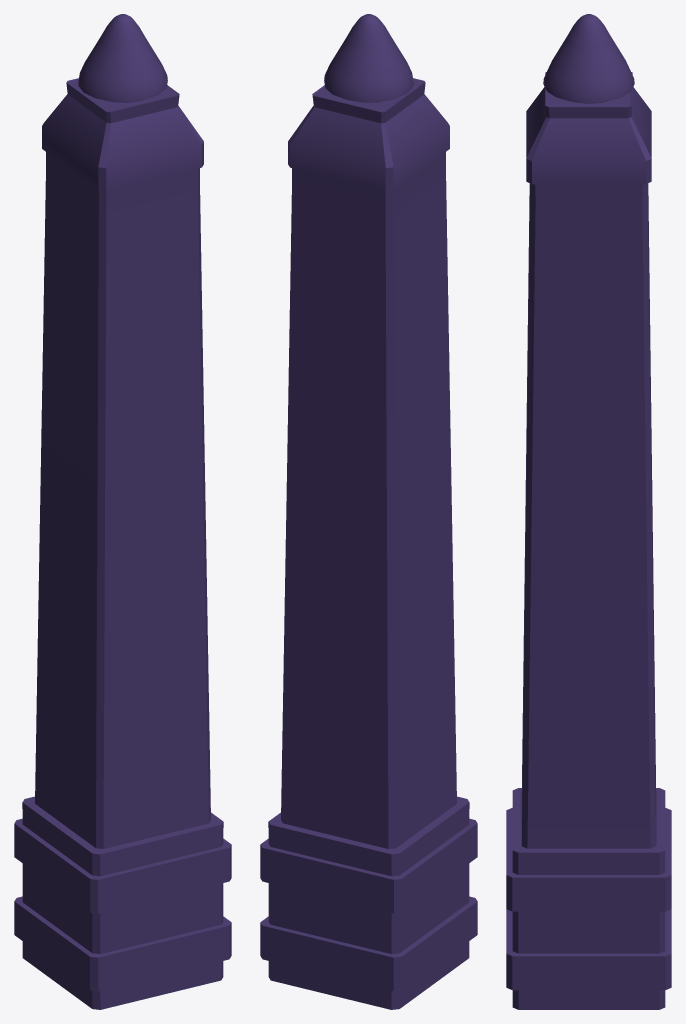
The model's file is SM_wallPillar.fbx.
3 views of the same model, side by side, from view 1: azimuth 30°, elevation 25°; view 2: azimuth 150°, elevation 25°; view 3: azimuth 270°, elevation 25° (orthographic).
Visible parts, largest first — view 1: SM_wallPillar; view 2: SM_wallPillar; view 3: SM_wallPillar.
Boxes of the visible parts, <box> form: SM_wallPillar: <box>14,14,231,1009</box>; SM_wallPillar: <box>260,14,477,1009</box>; SM_wallPillar: <box>506,14,671,1009</box>.
Size of the model in its own units: 1.24 by 7.95 by 1.24.
